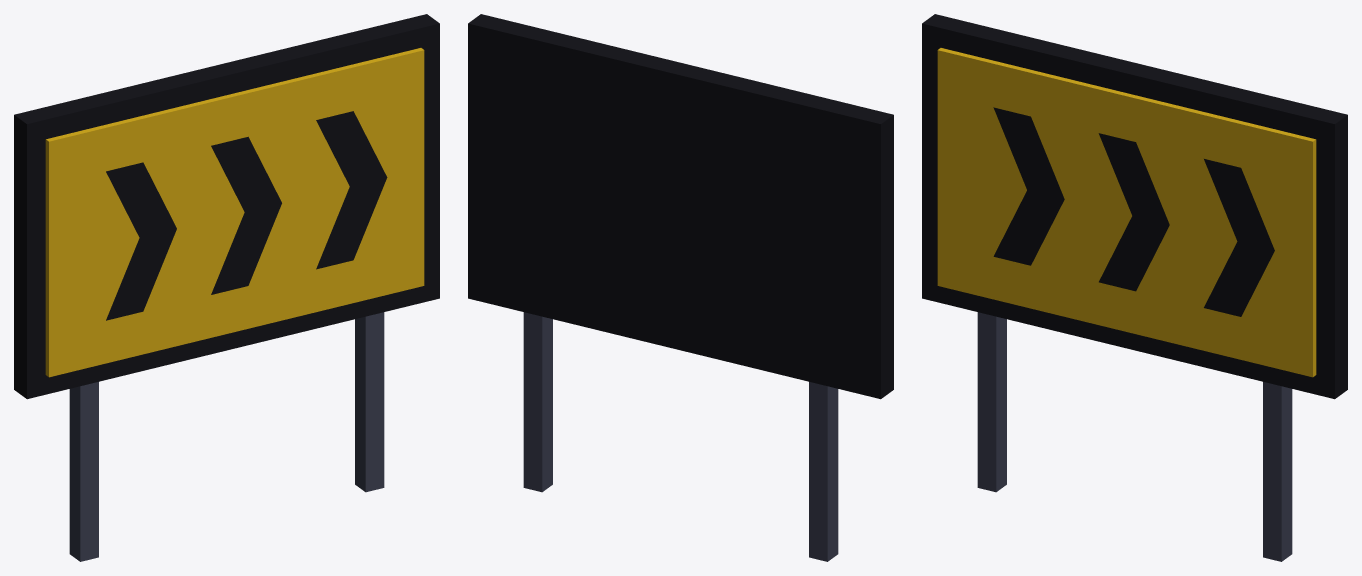
The model's file is chevron_sign.glb.
The picture shows the model from 3 angles, left to right: view 1: azimuth 30°, elevation 25°; view 2: azimuth 150°, elevation 25°; view 3: azimuth 330°, elevation 25°; orthographic projection.
Visible parts, largest first — view 1: chevron_sign; view 2: chevron_sign; view 3: chevron_sign.
Boxes of the visible parts, <box> form: chevron_sign: <box>14,14,439,561</box>; chevron_sign: <box>468,14,893,561</box>; chevron_sign: <box>922,14,1347,561</box>.
Size of the model in its own units: 1.1 by 1.15 by 0.077.
